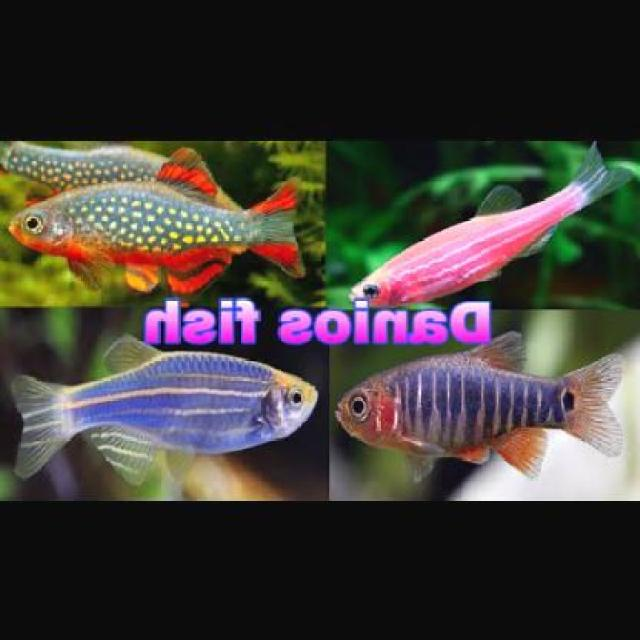ZebraFish: (350, 142, 625, 304), (3, 346, 323, 482), (5, 168, 312, 281)
